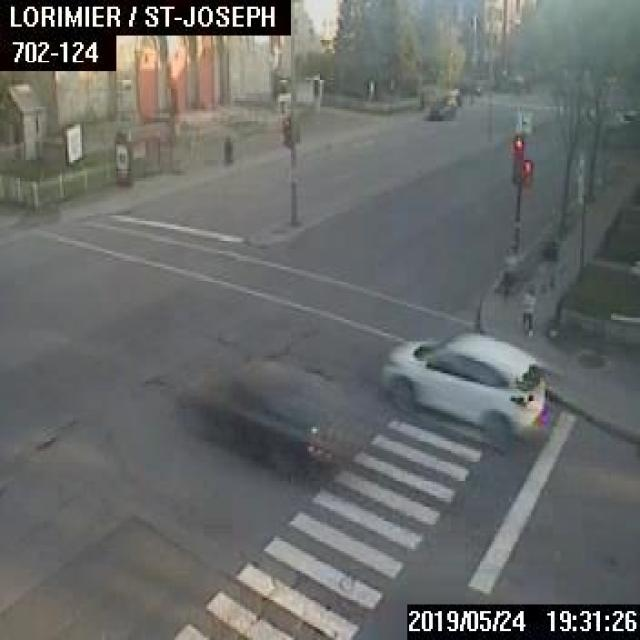pedestrian: (537, 229, 556, 291), (520, 286, 535, 338), (222, 132, 231, 164)
vehicle: (179, 356, 355, 477), (382, 329, 551, 444), (426, 95, 454, 119)
